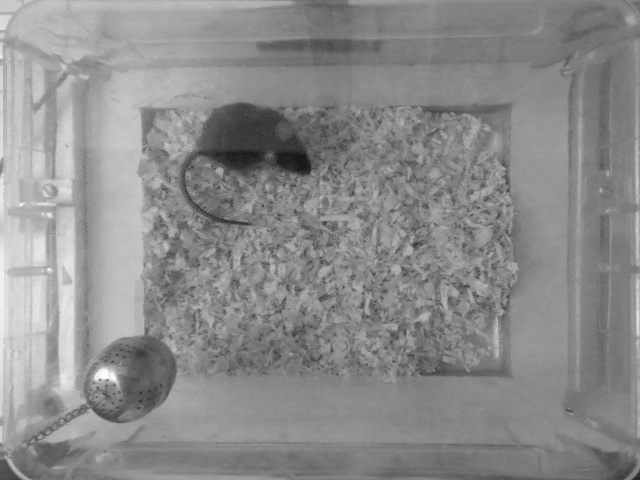mice: (171, 97, 315, 229)
